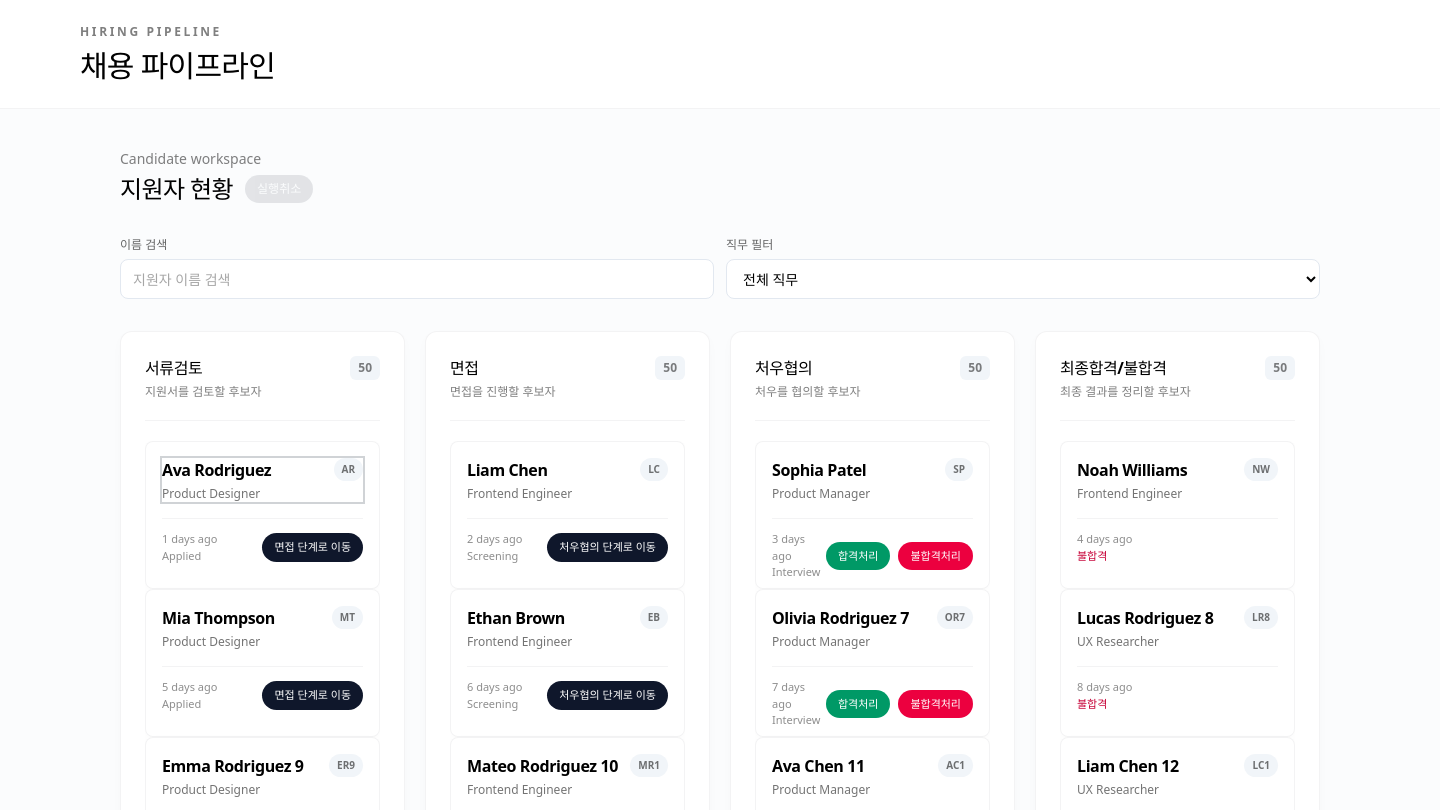
Test: Board › opens applicant details, moves focus, and closes with Escape
Click the button "Ava Rodriguez Product Designer AR" at (262, 480), box [162,458,363,502]
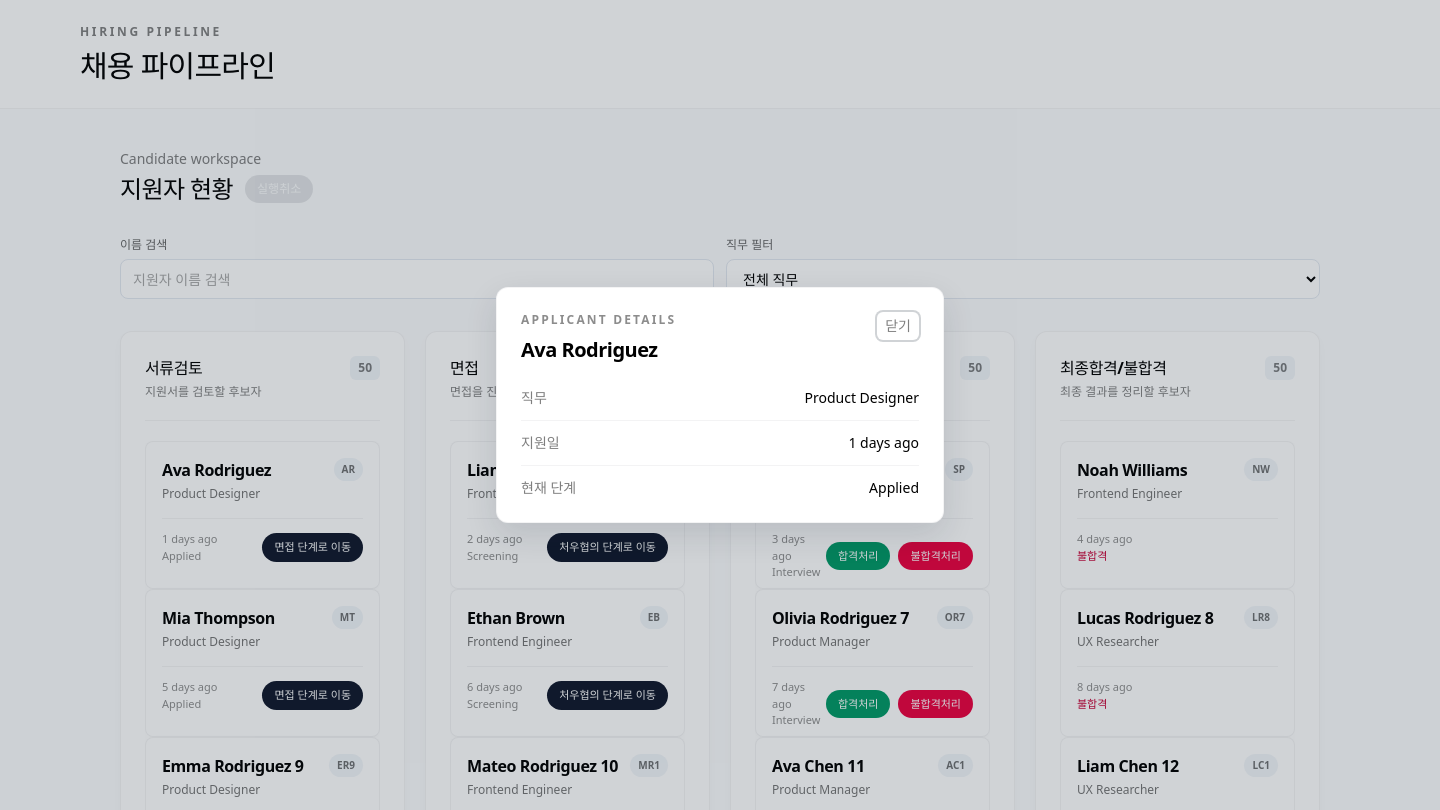
Check: the dialog is shown, box [496,287,944,523]
Check: the heading "Ava Rodriguez" is shown, box [521,336,676,364]
Press Escape
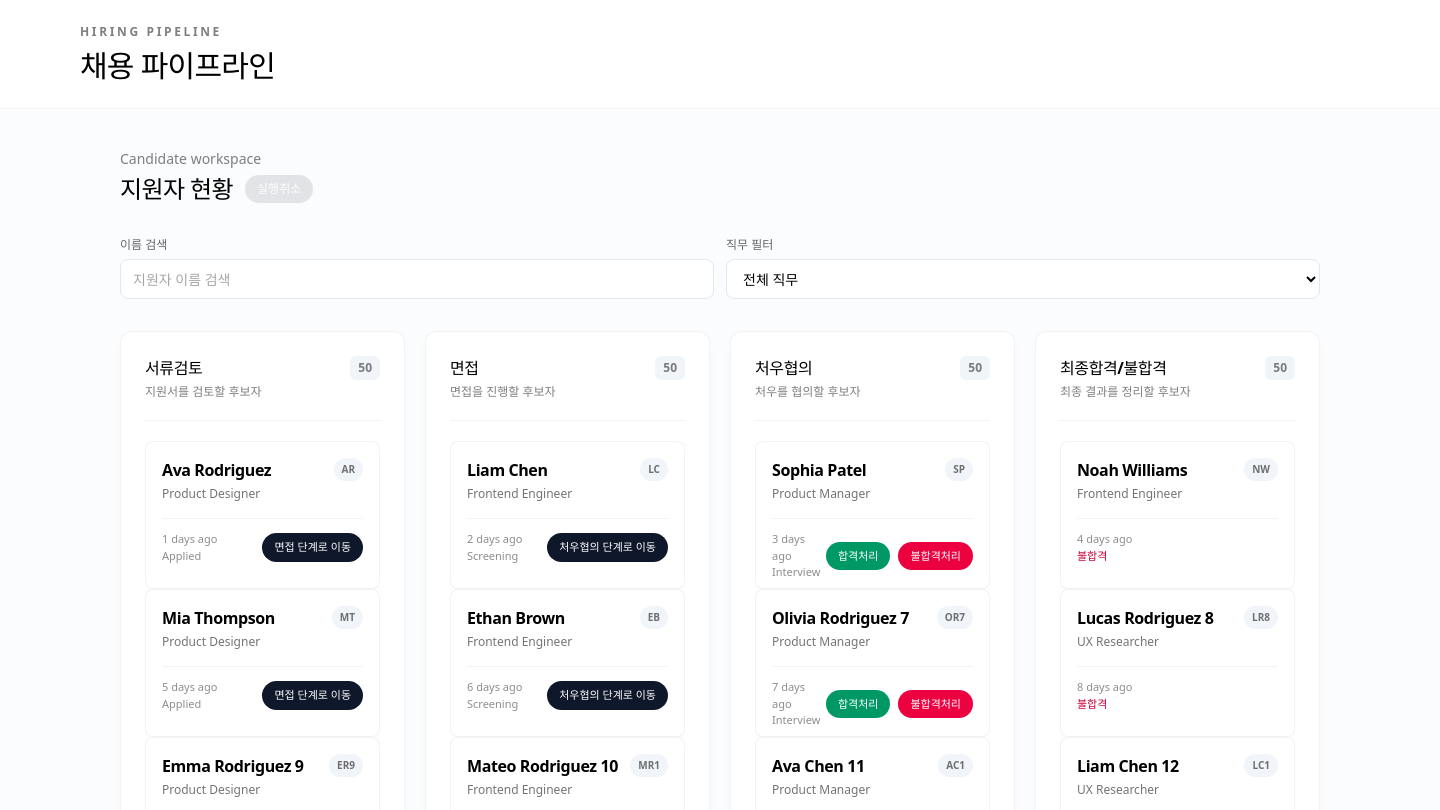
Check: the dialog is gone
